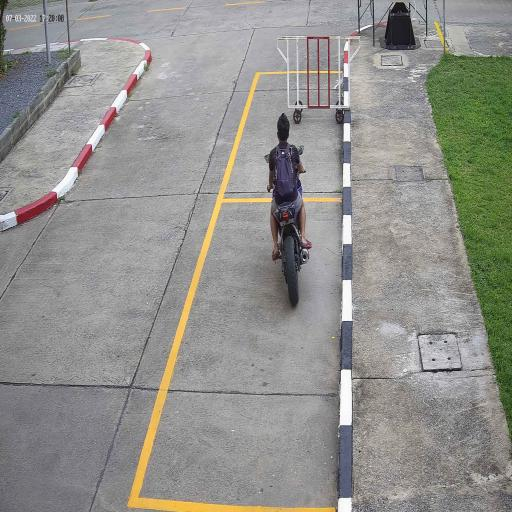motorcycle: (274, 204, 311, 308)
